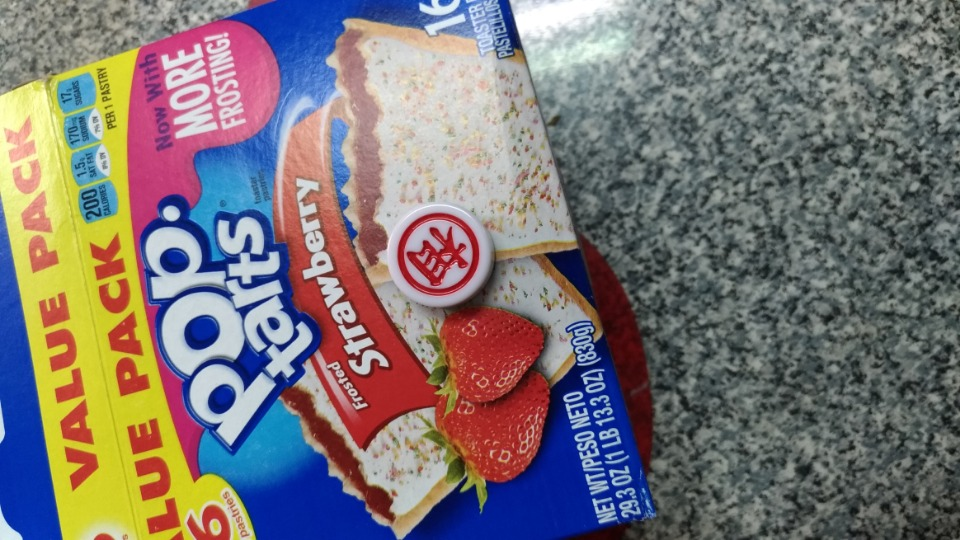r-elephant: (375, 195, 501, 320)
